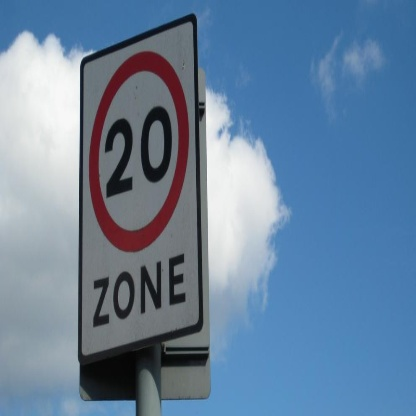limit2: (78, 46, 190, 252)
